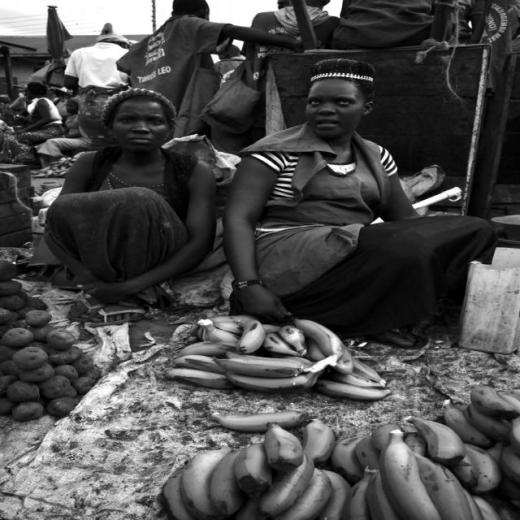Banana: (157, 386, 520, 520), (158, 312, 364, 399)
